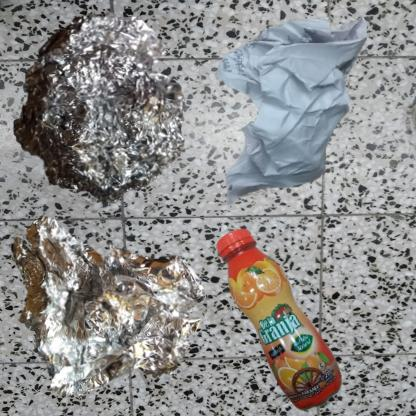aluminio: (10, 213, 206, 398), (10, 10, 186, 206)
botella: (213, 213, 367, 416)
papel: (213, 10, 371, 206)
